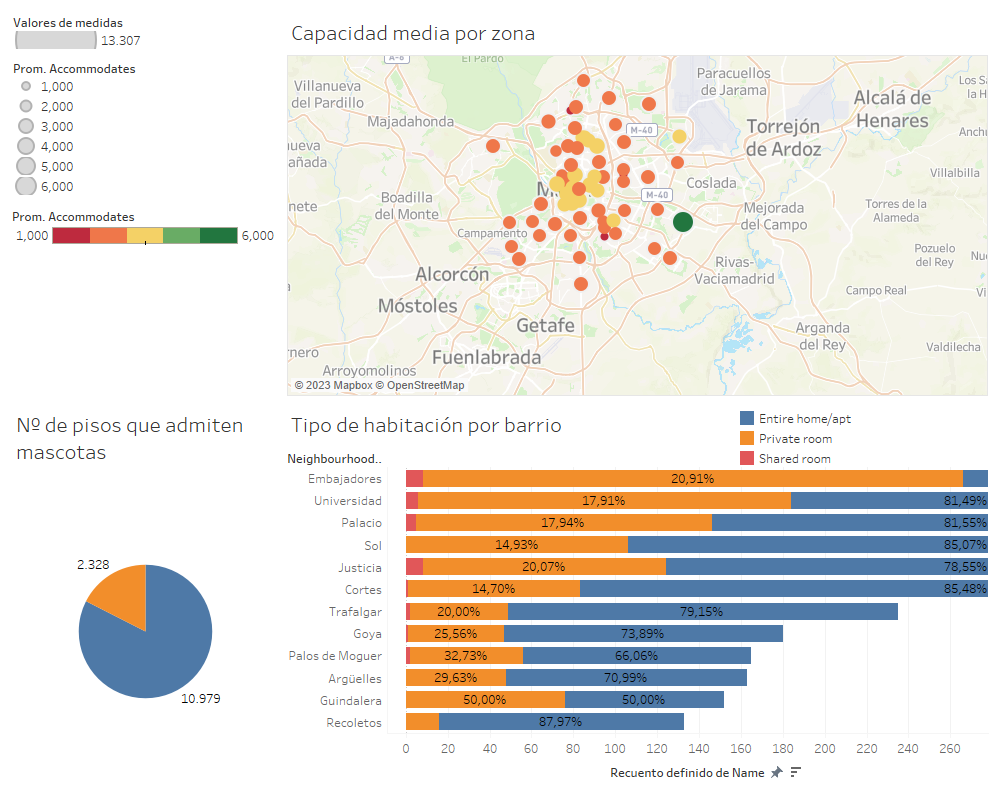

This screenshot's page, from the dashboard's own definition file:
{"tool":"tableau","page":{"name":"Dashboard 3","canvas":[1000,800],"ordinal":2},"visuals":[{"type":"legend","title":"Nº de pisos que admiten mascotas","param":"[federated.1ehh2ds02xjzyj17pppx21c76nv7].[Multiple Values]","box":[8,8,275,59]},{"type":"worksheet","title":"Capacidad media por zona","mark":"Automatic","rows":["Calculation_993043780082253825"],"cols":["Calculation_993043780082581506"],"box":[283,8,709,392]},{"type":"legend","title":"Capacidad media por zona","param":"[federated.1ehh2ds02xjzyj17pppx21c76nv7].[avg:Accommodates:qk]","box":[8,67,275,184]},{"type":"legend","title":"Capacidad media por zona","param":"[federated.1ehh2ds02xjzyj17pppx21c76nv7].[avg:Accommodates:qk]","box":[8,251,275,81]},{"type":"worksheet","title":"Nº de pisos que admiten mascotas","mark":"Pie","box":[8,400,275,392]},{"type":"worksheet","title":"Tipo de habitación por barrio","mark":"Automatic","rows":["Neighbourhood.Cleansed"],"cols":["Name"],"box":[283,400,709,392]},{"type":"legend","title":"Tipo de habitación por barrio","param":"[federated.1ehh2ds02xjzyj17pppx21c76nv7].[none:Room.Type:nk]","box":[737,408,247,67]}]}

Visuals, with their boxes in screenshot pixels (x1, y1, x2, y2), scaled from the page's 1000x800 canvas onto the 1000x800 screenshot:
"Nº de pisos que admiten mascotas" legend: [x1=8, y1=8, x2=283, y2=67]
"Capacidad media por zona" worksheet: [x1=283, y1=8, x2=992, y2=400]
"Capacidad media por zona" legend: [x1=8, y1=67, x2=283, y2=251]
"Capacidad media por zona" legend: [x1=8, y1=251, x2=283, y2=332]
"Nº de pisos que admiten mascotas" worksheet (Pie marks): [x1=8, y1=400, x2=283, y2=792]
"Tipo de habitación por barrio" worksheet: [x1=283, y1=400, x2=992, y2=792]
"Tipo de habitación por barrio" legend: [x1=737, y1=408, x2=984, y2=475]
